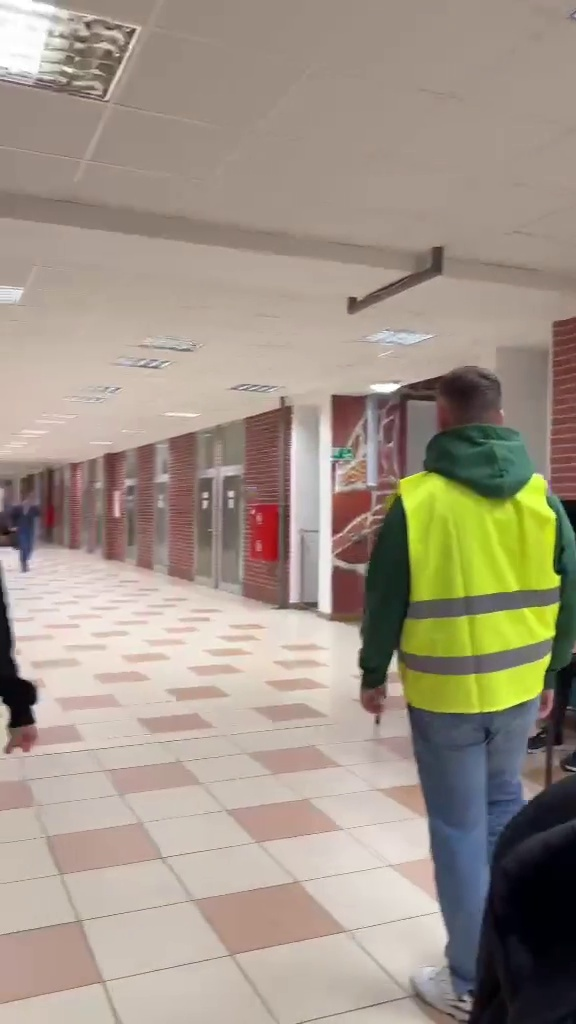vest: (367, 367, 576, 1024)
